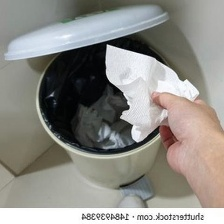tissue: (99, 38, 204, 146)
